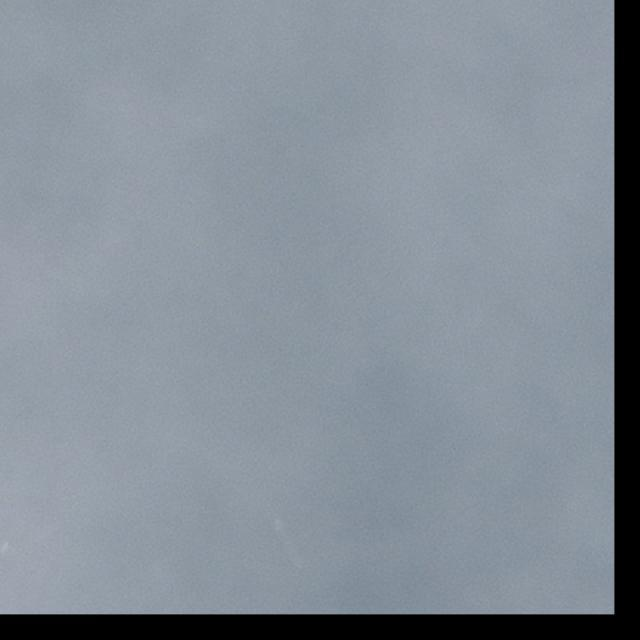ship: (270, 515, 309, 571), (0, 540, 10, 554)
